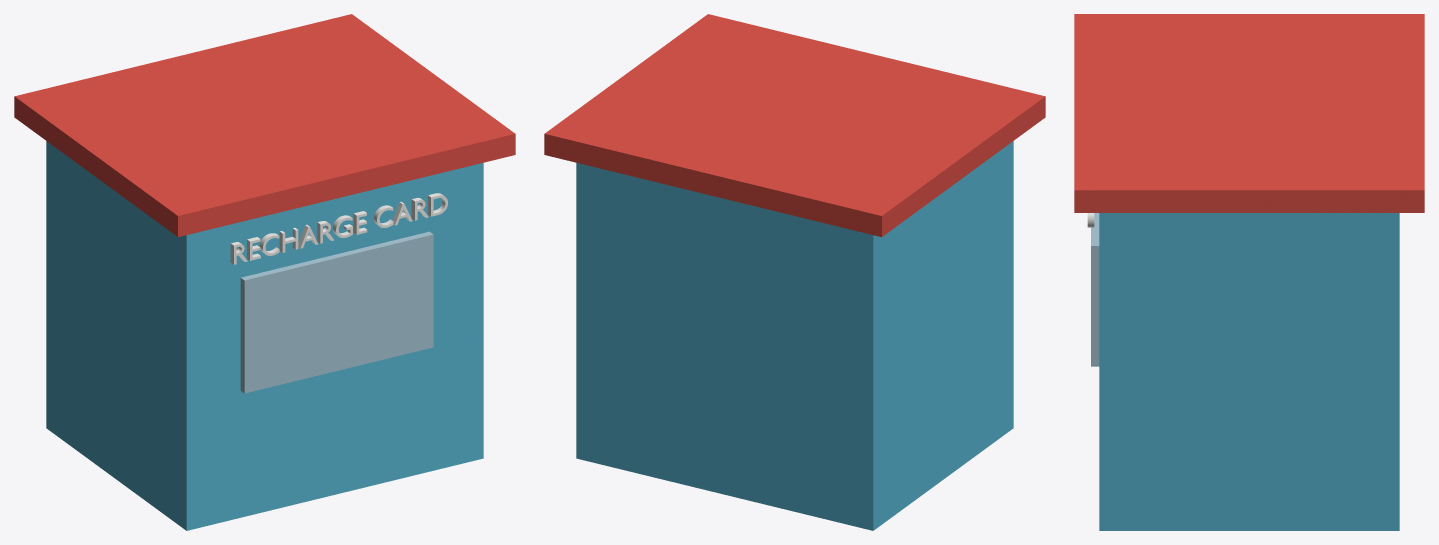
Rendered from EN_Kiosk.glb.
3 views of the same model, side by side, from view 1: azimuth 30°, elevation 25°; view 2: azimuth 150°, elevation 25°; view 3: azimuth 270°, elevation 25° (orthographic). The views are drawn at different scales.
Parts seen in each view (by area): view 1: EN_Kiosk; view 2: EN_Kiosk; view 3: EN_Kiosk.
Part boxes in pixels (x1,y1,x2,y2): EN_Kiosk: [14, 14, 515, 530]; EN_Kiosk: [544, 14, 1045, 530]; EN_Kiosk: [1074, 14, 1424, 530].
Bounding box in the file's own units: 2.5 × 2.33 × 2.1.
